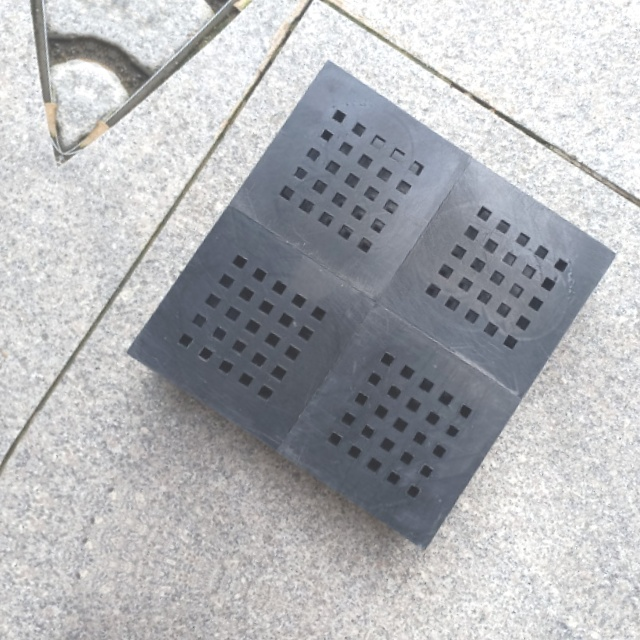pallet: (120, 50, 622, 557)
